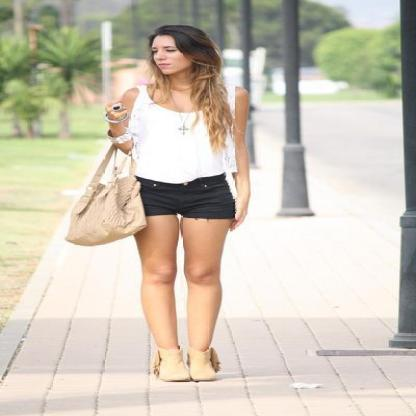bag: (66, 137, 144, 246)
shirt: (112, 92, 236, 184)
shoe: (154, 348, 219, 379)
shorts: (137, 175, 235, 222)
